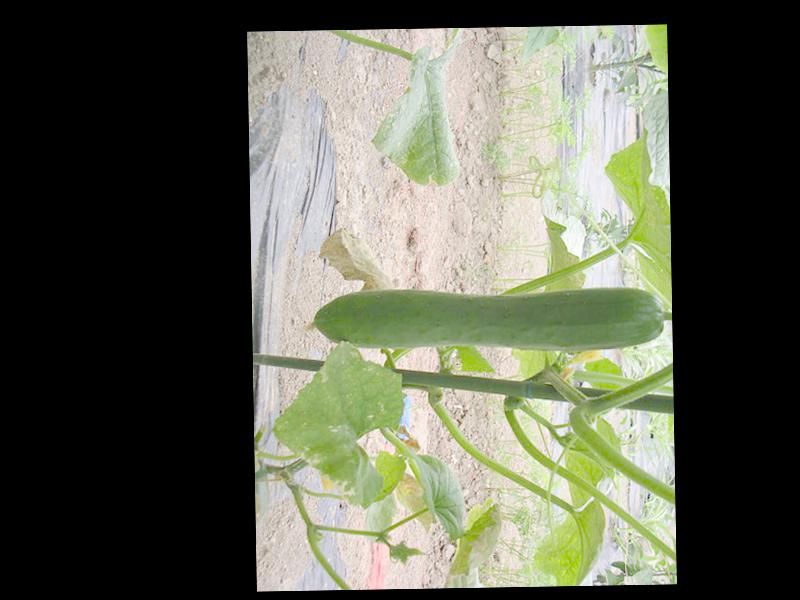Cucumber: (303, 285, 664, 356)
